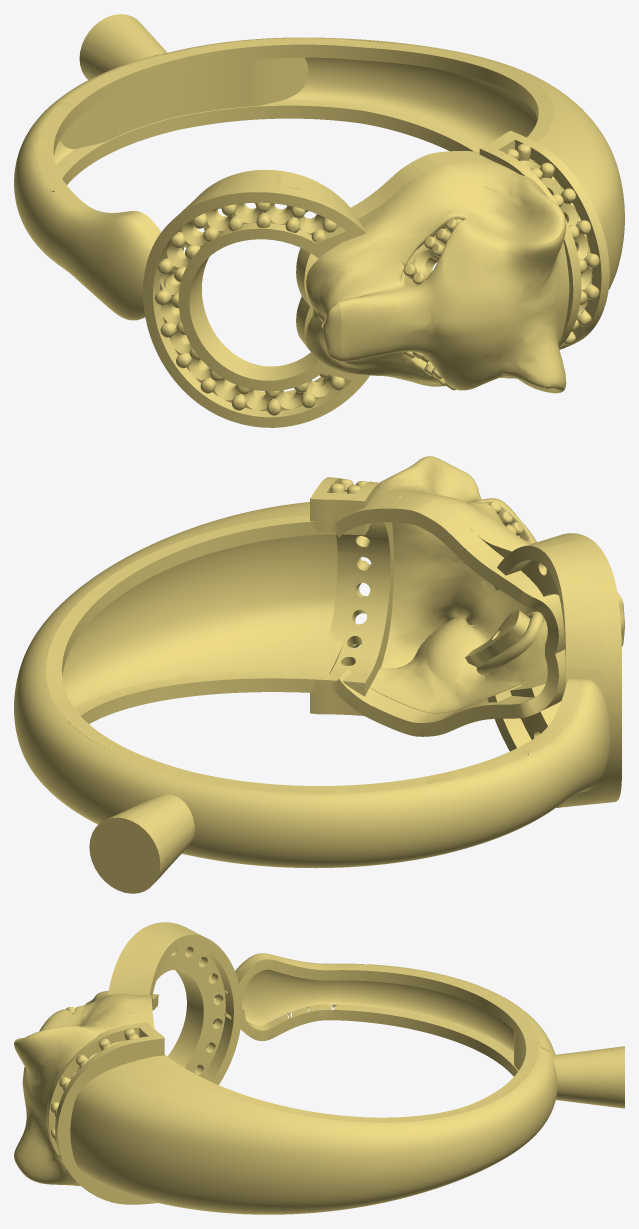
Rendered from leon.glb.
3 views of the same model, one above another, from view 1: azimuth 30°, elevation 25°; view 2: azimuth 150°, elevation 25°; view 3: azimuth 270°, elevation 25° (orthographic). The views are drawn at different scales.
Visible parts, largest first — view 1: Renderer Node; view 2: Renderer Node; view 3: Renderer Node.
Part boxes in pixels (x1,y1,x2,y2): Renderer Node: [14, 14, 624, 427]; Renderer Node: [14, 456, 624, 893]; Renderer Node: [14, 922, 624, 1214].
Bounding box in the file's own units: 23.08 × 10.35 × 30.35.
